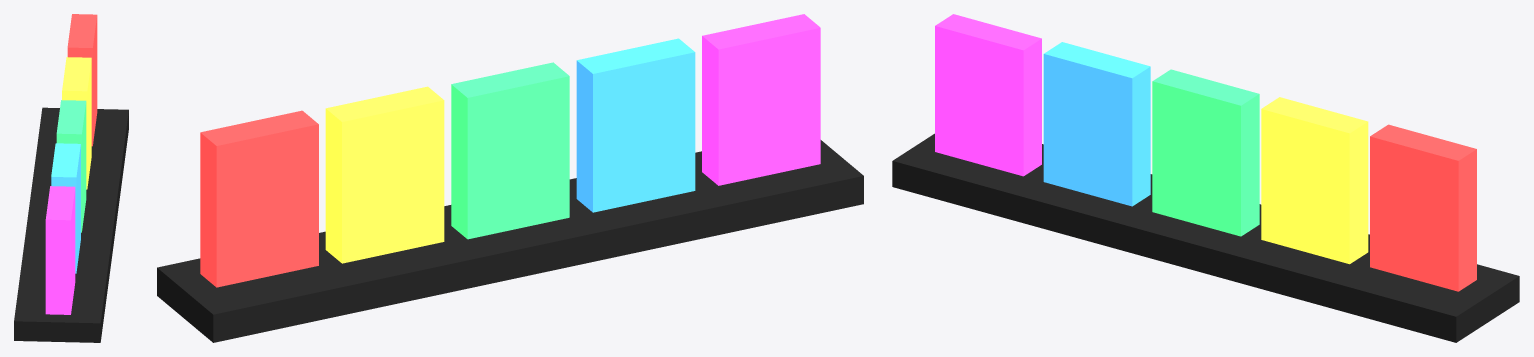
File: pb_aruba_lit.glb
3 views of the same model, side by side, from view 1: azimuth 30°, elevation 25°; view 2: azimuth 150°, elevation 25°; view 3: azimuth 270°, elevation 25° (orthographic). The views are drawn at different scales.
Parts seen in each view (by area): view 1: pb_aruba_lit_lod0; view 2: pb_aruba_lit_lod0; view 3: pb_aruba_lit_lod0.
Part boxes in pixels (left/top/right/bottom): pb_aruba_lit_lod0: left=14, top=14, right=128, bottom=342; pb_aruba_lit_lod0: left=157, top=14, right=863, bottom=342; pb_aruba_lit_lod0: left=892, top=14, right=1519, bottom=342.
Size of what is drawn, in the model's own units: 4.84 by 1.86 by 6.51.
